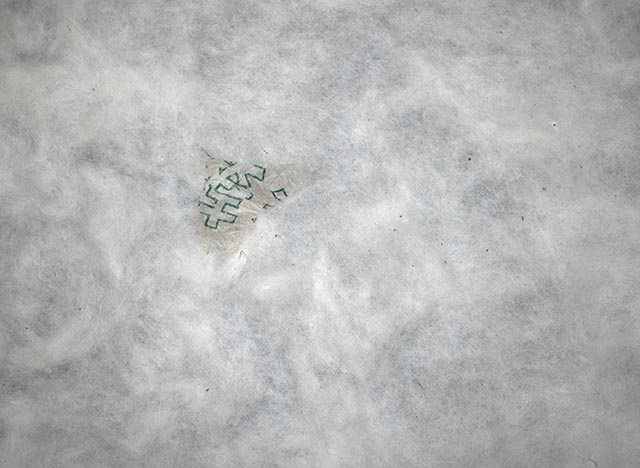plastic film: (194, 142, 315, 263)
